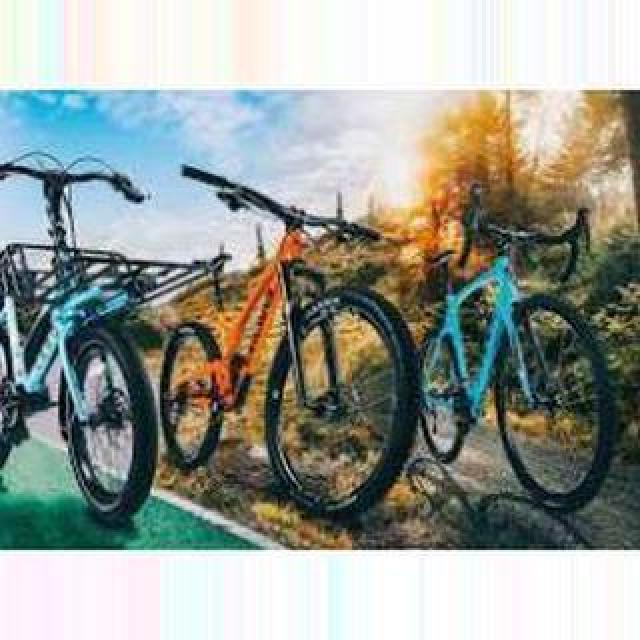Person: (127, 162, 431, 530), (5, 147, 165, 547), (421, 231, 619, 499)
